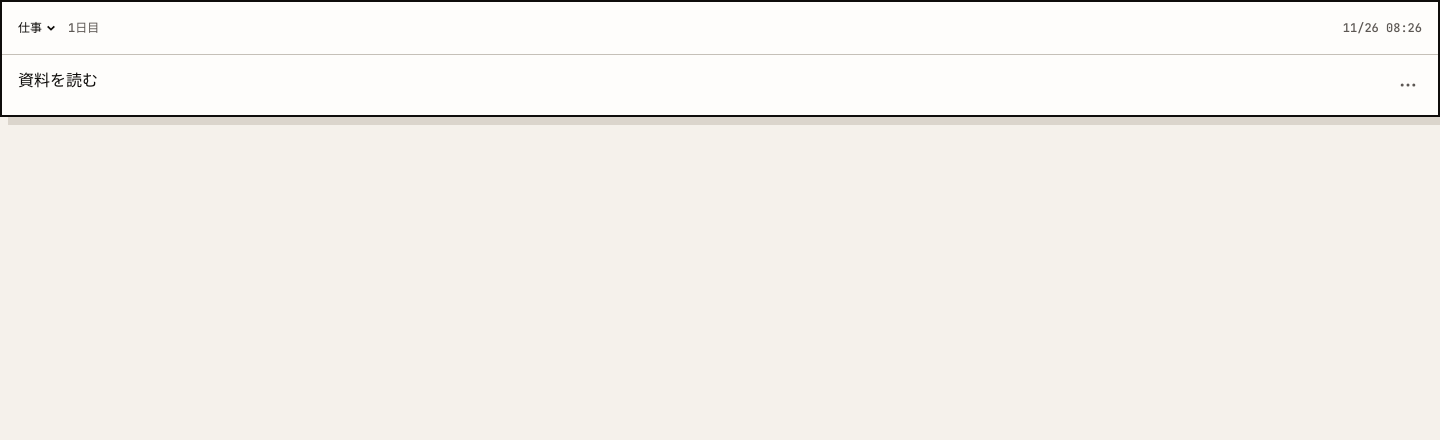
Test: TaskCard actions › opens the title editor from the menu
Click the button named "操作": (1408, 85) 1386,63 -> 1430,107
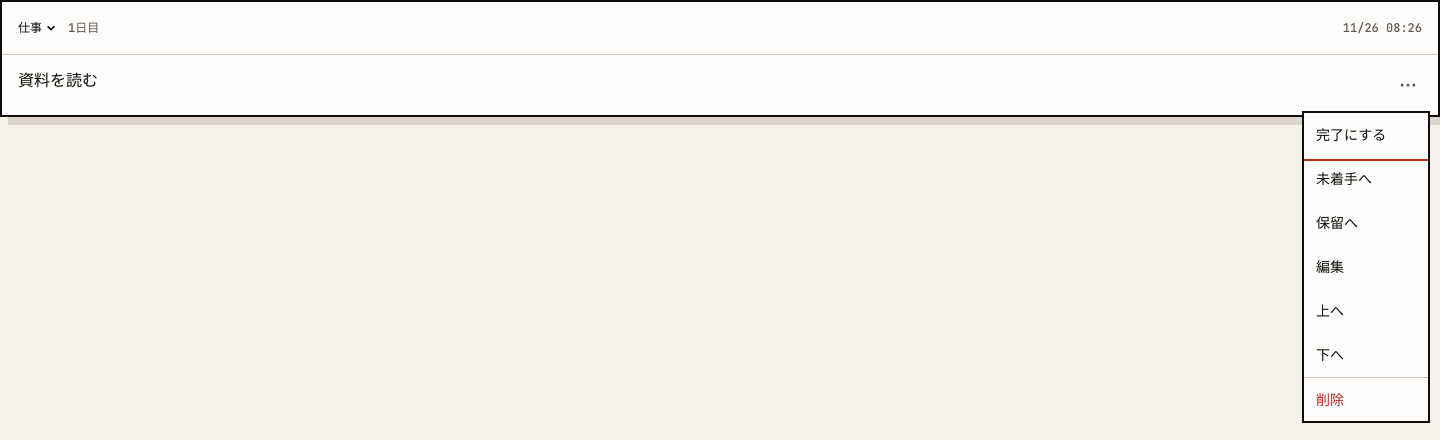
Click the menu item "編集": (1366, 267) 1304,245 -> 1428,289
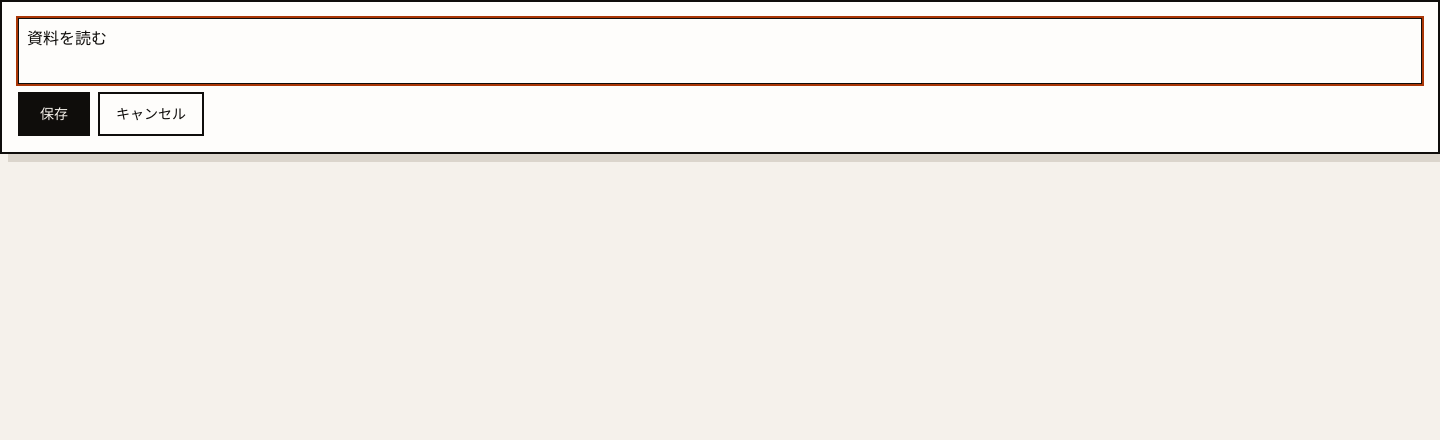
Expected: the text box with placeholder "タイトル" holds "資料を読む", 18,18 -> 1422,84
